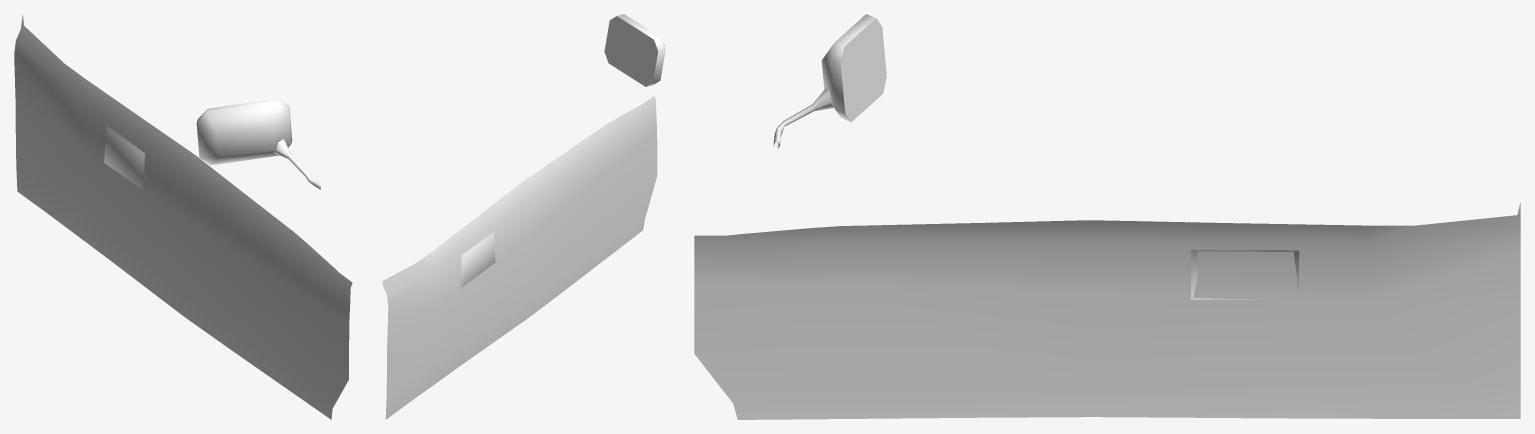
3 renders of one model, left to right at view 1: azimuth 30°, elevation 25°; view 2: azimuth 150°, elevation 25°; view 3: azimuth 270°, elevation 25°, orthographic. The views are drawn at different scales.
Size of the model in its own units: 0.1706 by 0.5622 by 1.15.
1 material, 1 textured.
